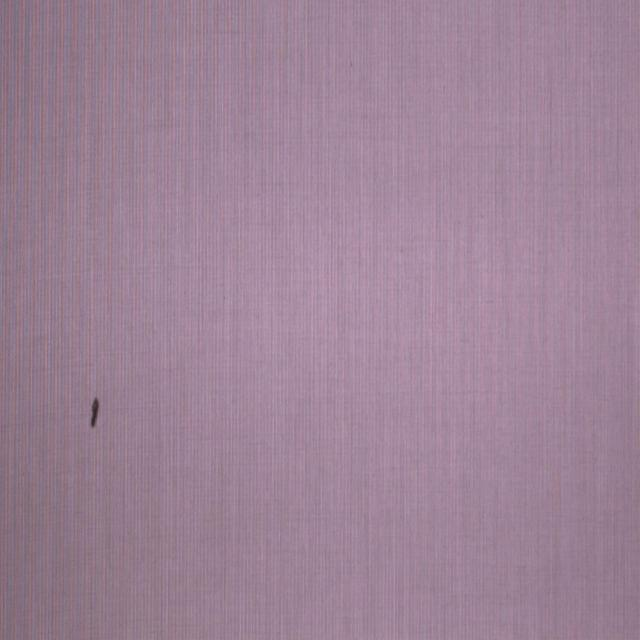dirty: (92, 399, 98, 428)
